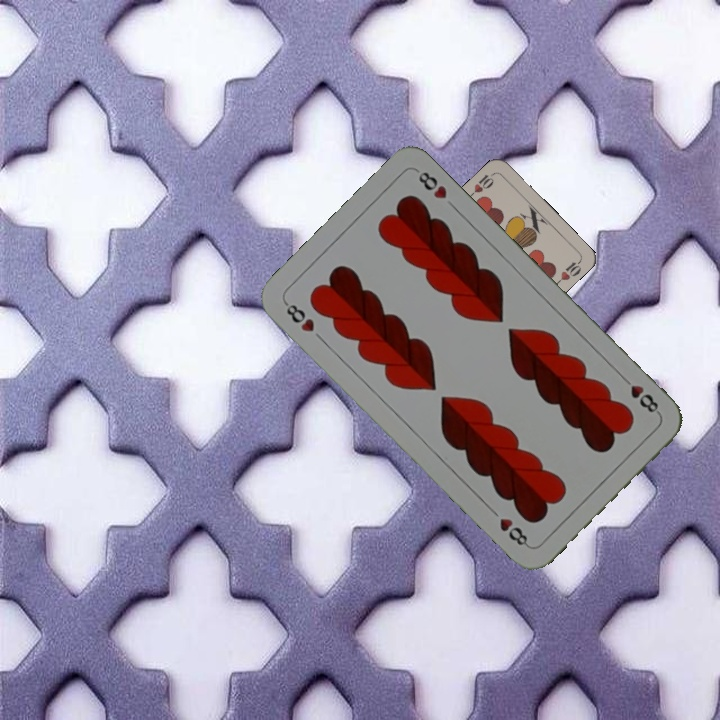H10: (465, 169, 497, 200)
H8: (616, 371, 663, 418), (280, 298, 317, 335)
